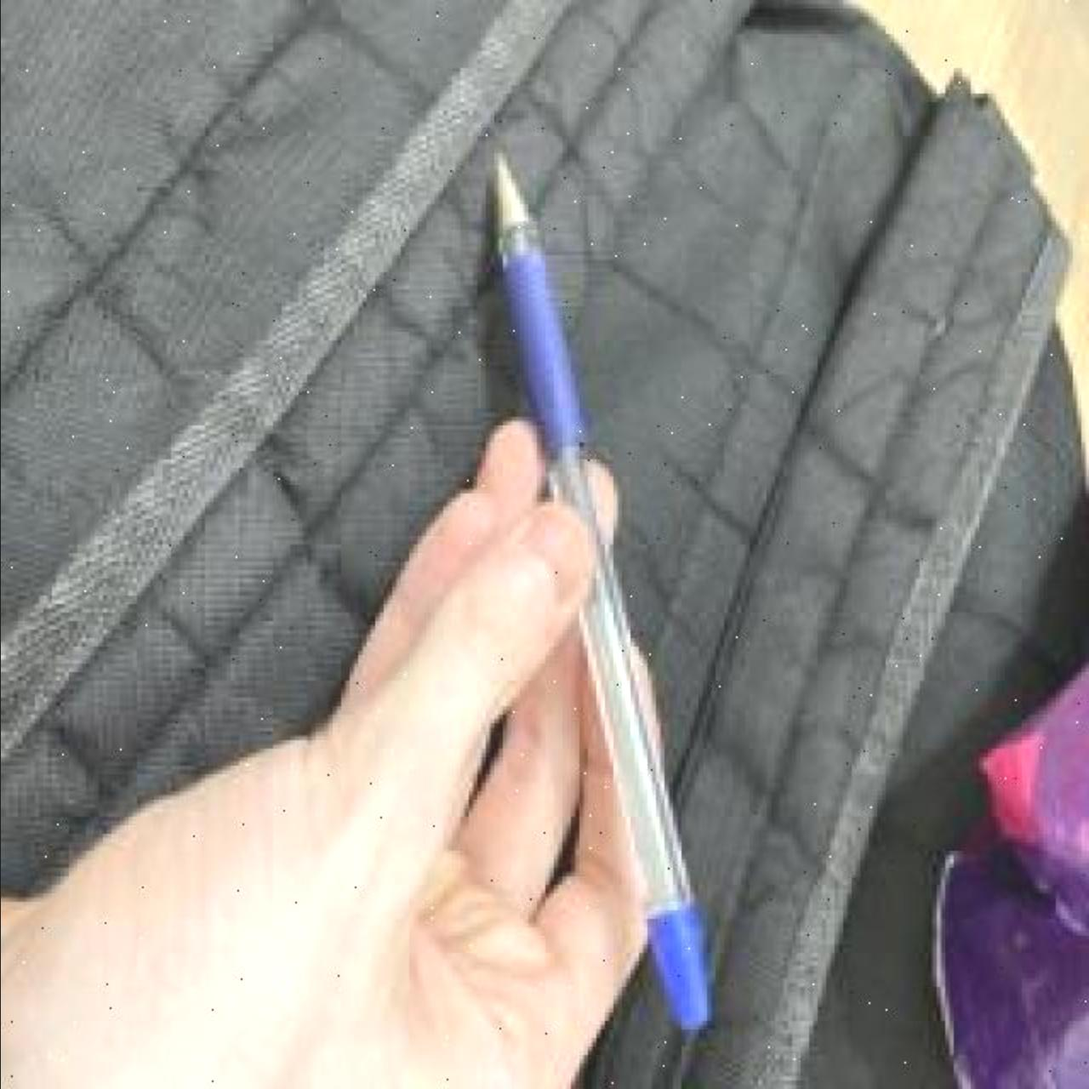pen: (483, 151, 710, 1033)
